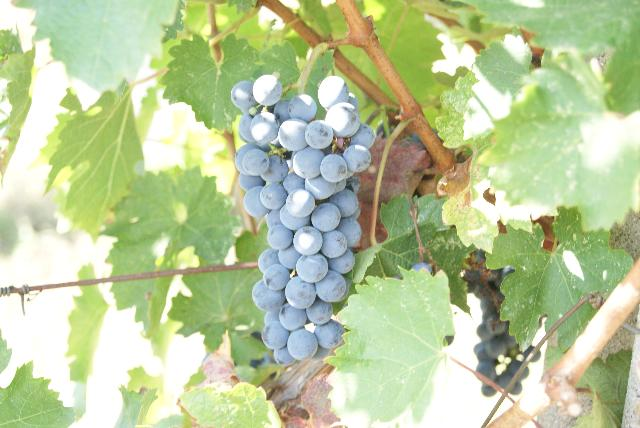grapes: (230, 74, 375, 365)
